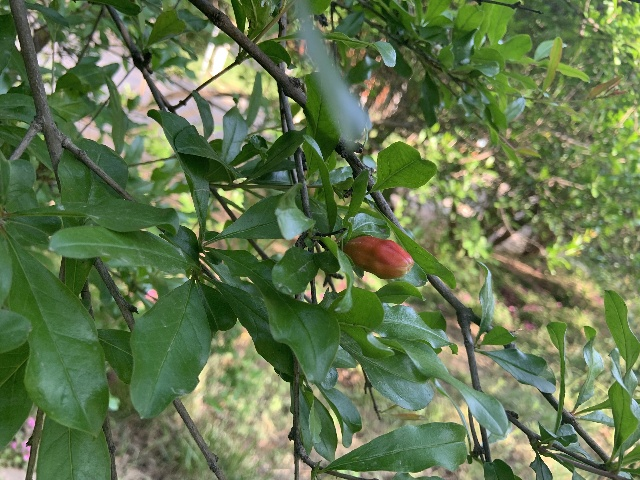bud: (343, 235, 412, 279)
